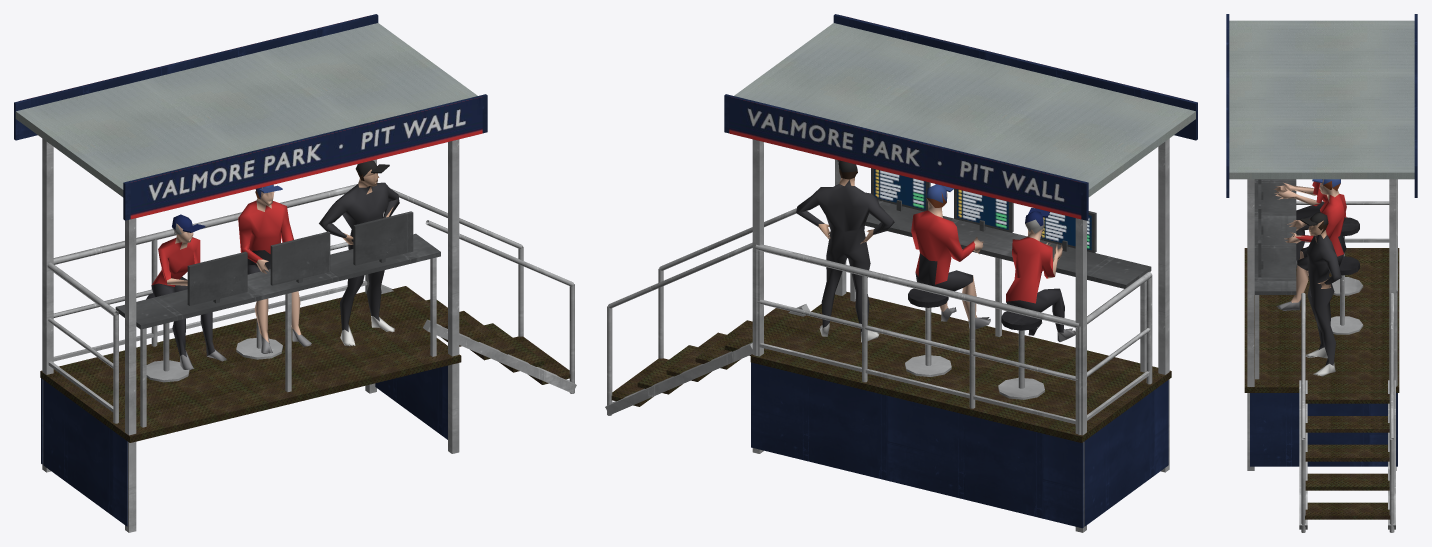
Rendered from pit_perch.glb.
3 renders of one model, left to right at view 1: azimuth 30°, elevation 25°; view 2: azimuth 150°, elevation 25°; view 3: azimuth 270°, elevation 25°, orthographic. The views are drawn at different scales.
Visible parts, largest first — view 1: pit_perch, pit_perch crew; view 2: pit_perch, pit_perch crew; view 3: pit_perch, pit_perch crew.
Boxes of the visible parts, <box> form: pit_perch: <box>14,14,576,532</box>; pit_perch crew: <box>151,160,399,369</box>; pit_perch: <box>605,14,1197,532</box>; pit_perch crew: <box>796,160,1075,342</box>; pit_perch: <box>1226,14,1417,532</box>; pit_perch crew: <box>1274,179,1346,376</box>.
Bounding box in the file's own units: 4.77 × 3.34 × 1.86.
Materials: 9 (8 with a texture image).
